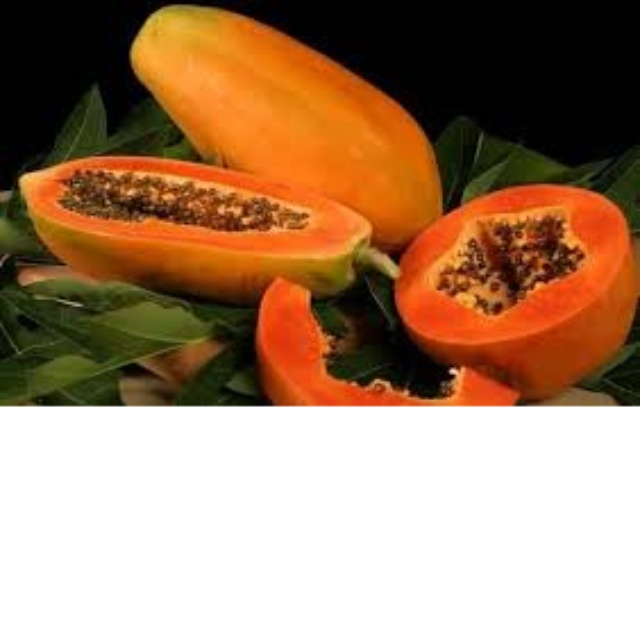du_du: (4, 2, 444, 282), (392, 160, 638, 395)
